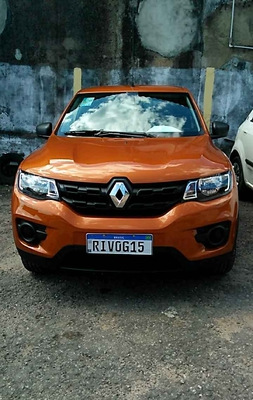Frontal Veiculo: (11, 88, 238, 271)
